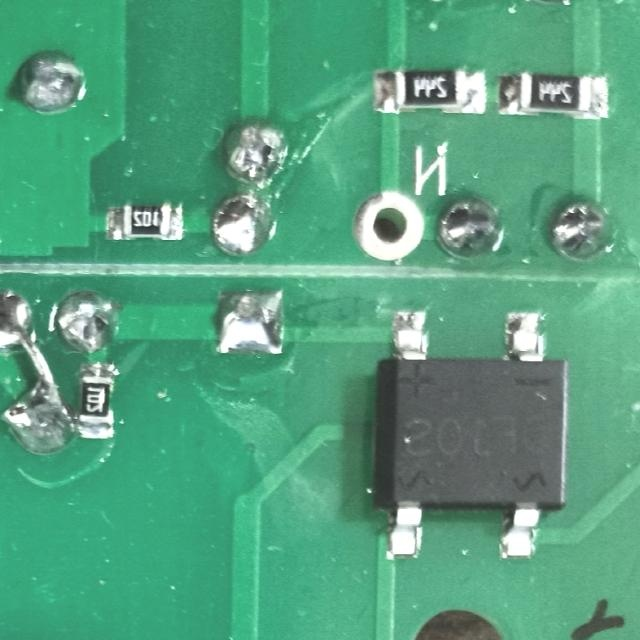chip-resistor: (494, 70, 610, 119), (369, 66, 488, 113), (105, 200, 187, 241), (78, 361, 117, 439)
ic: (370, 305, 575, 567)
